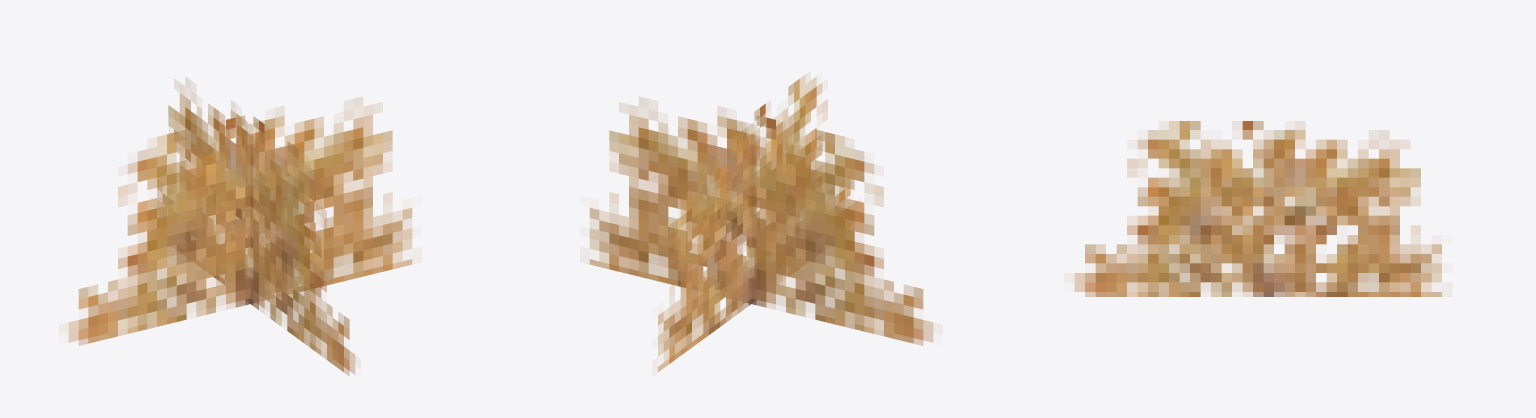
The model's file is tree-small.glb.
3 views of the same model, side by side, from view 1: azimuth 30°, elevation 25°; view 2: azimuth 150°, elevation 25°; view 3: azimuth 270°, elevation 25° (orthographic). The views are drawn at different scales.
Visible parts, largest first — view 1: tree-small; view 2: tree-small; view 3: tree-small.
Part boxes in pixels (<box>): tree-small: <box>68,77,412,375</box>; tree-small: <box>589,71,933,371</box>; tree-small: <box>1074,121,1441,296</box>.
Bounding box in the file's own units: 0.78 × 0.3 × 0.78.
1 material, 1 textured.
